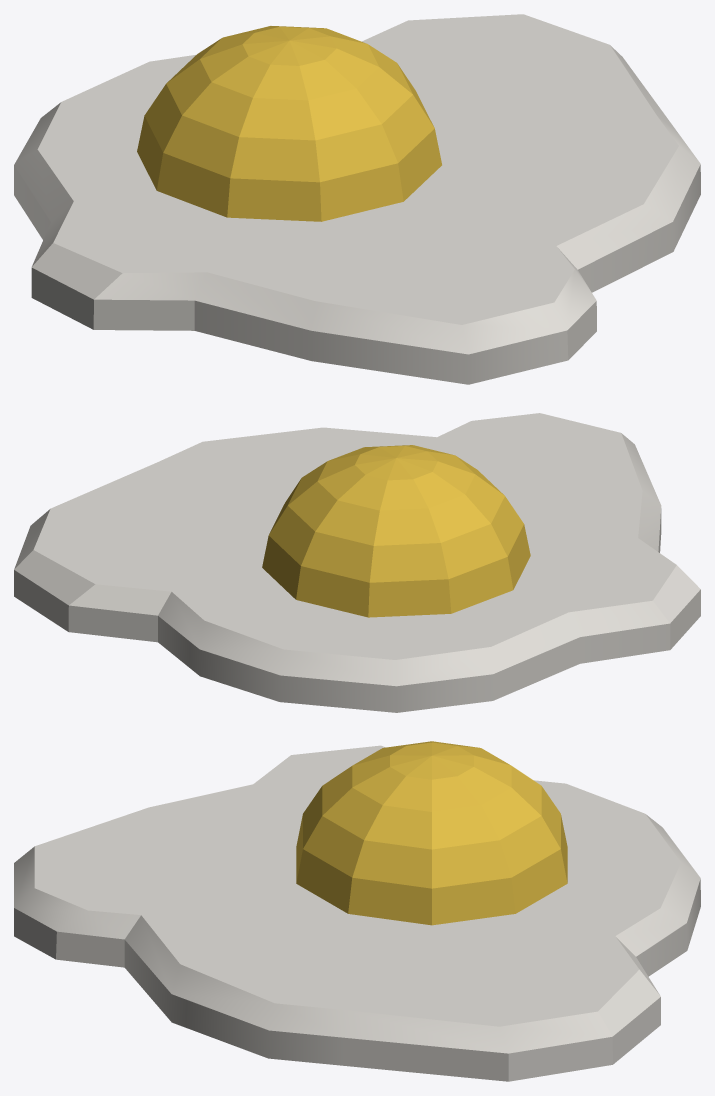
Rendered from Egg 1.fbx.
3 views of the same model, one above another, from view 1: azimuth 30°, elevation 25°; view 2: azimuth 150°, elevation 25°; view 3: azimuth 270°, elevation 25° (orthographic). The views are drawn at different scales.
Parts seen in each view (by area): view 1: pasted__pasted__pCylinder3; view 2: pasted__pasted__pCylinder3; view 3: pasted__pasted__pCylinder3.
Boxes of the visible parts, <box> form: pasted__pasted__pCylinder3: <box>14,14,700,384</box>; pasted__pasted__pCylinder3: <box>14,413,700,712</box>; pasted__pasted__pCylinder3: <box>14,741,700,1081</box>.
Size of the model in its own units: 0.1696 by 0.0414 by 0.1648.
